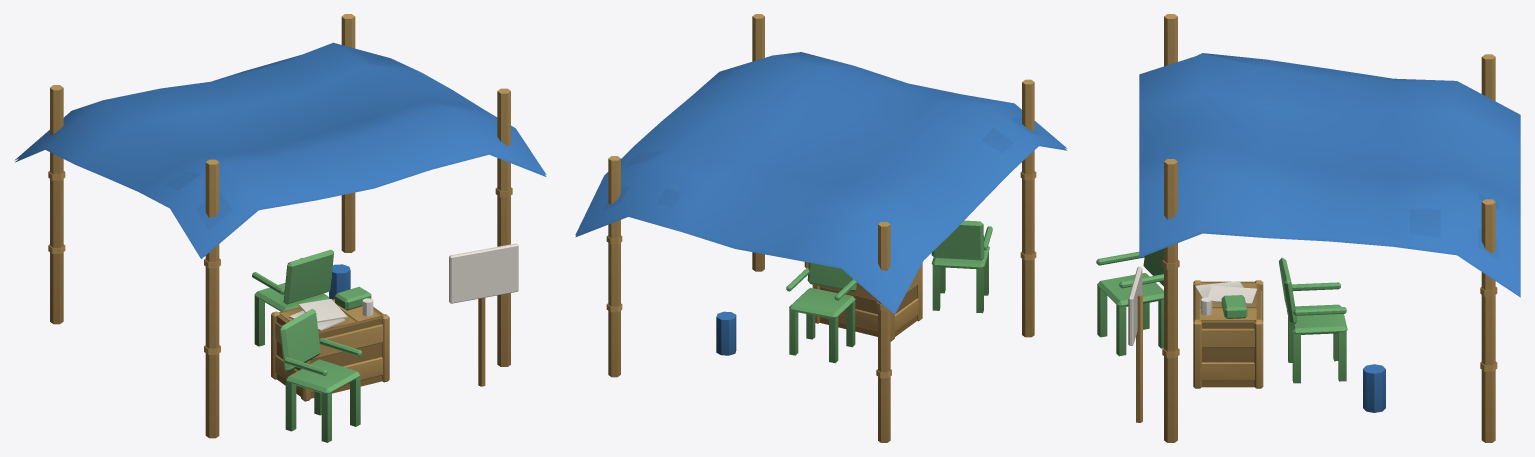
The model's file is pos_calo.glb.
The picture shows the model from 3 angles, left to right: view 1: azimuth 30°, elevation 25°; view 2: azimuth 150°, elevation 25°; view 3: azimuth 270°, elevation 25°; orthographic projection. The views are drawn at different scales.
Parts seen in each view (by area): view 1: pos_calo_mesh; view 2: pos_calo_mesh; view 3: pos_calo_mesh.
Boxes of the visible parts, bbox=[...] form: pos_calo_mesh: bbox=[14, 14, 546, 442]; pos_calo_mesh: bbox=[575, 14, 1067, 442]; pos_calo_mesh: bbox=[1096, 14, 1520, 442].
Bounding box in the file's own units: 3.2 × 2.42 × 3.34.
